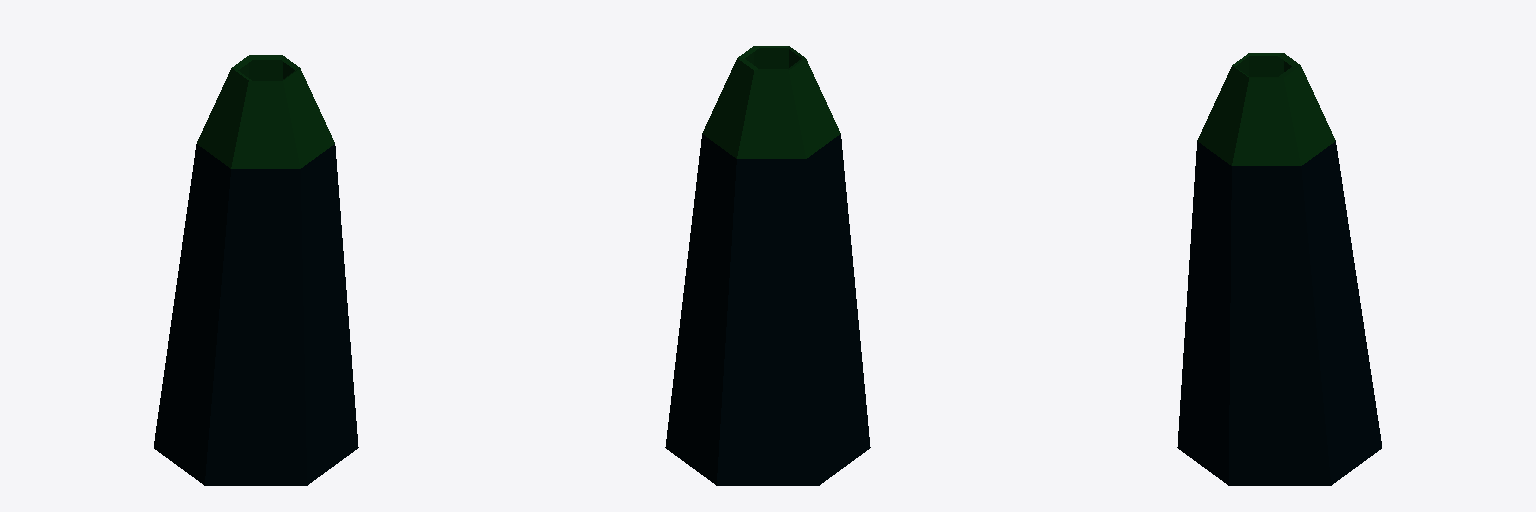
File: weapon.obj
The picture shows the model from 3 angles: view 1: azimuth 30°, elevation 25°; view 2: azimuth 150°, elevation 25°; view 3: azimuth 270°, elevation 25°; orthographic projection.
Visible parts, largest first — view 1: Cylinder; view 2: Cylinder; view 3: Cylinder.
Boxes of the visible parts, box(x1,y1,x2,y2) form: Cylinder: box(154, 55, 358, 485); Cylinder: box(665, 46, 870, 485); Cylinder: box(1177, 53, 1381, 485).
Bounding box in the file's own units: 0.6275 × 1.5 × 0.7246.